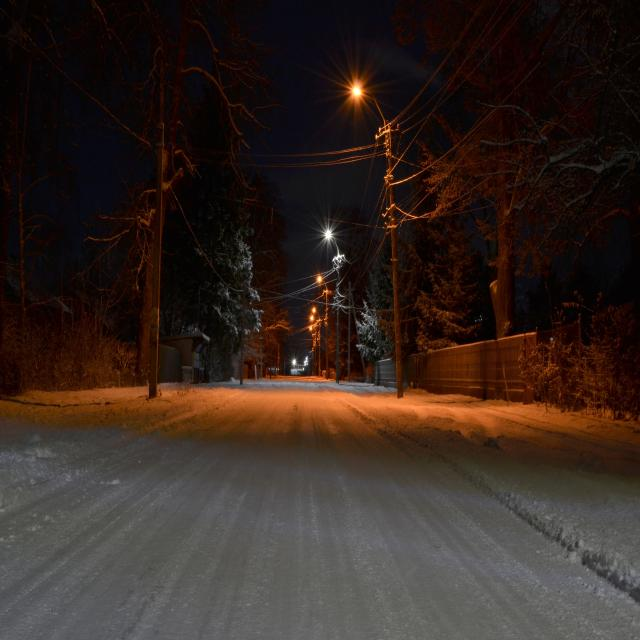Street Light: (352, 85, 403, 400), (325, 230, 340, 380), (318, 276, 330, 376), (312, 306, 322, 376)
